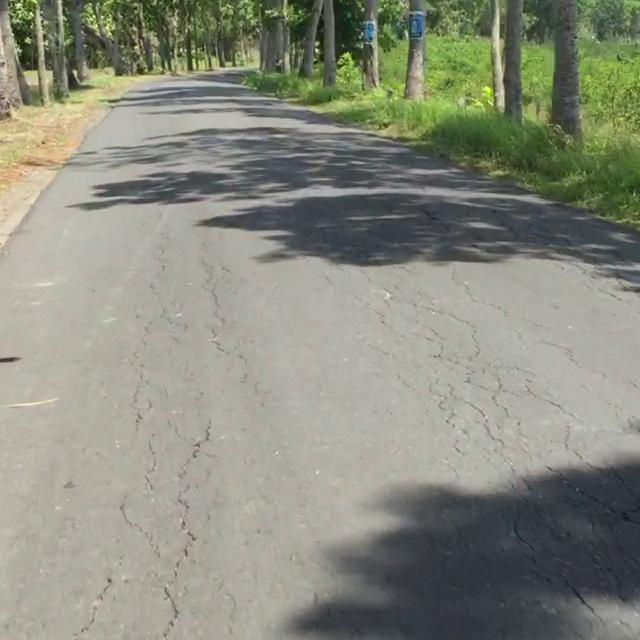retak_kulit_buaya: (360, 237, 551, 470), (444, 471, 640, 640)
retak_memanjang: (138, 412, 218, 640), (57, 554, 121, 640)
